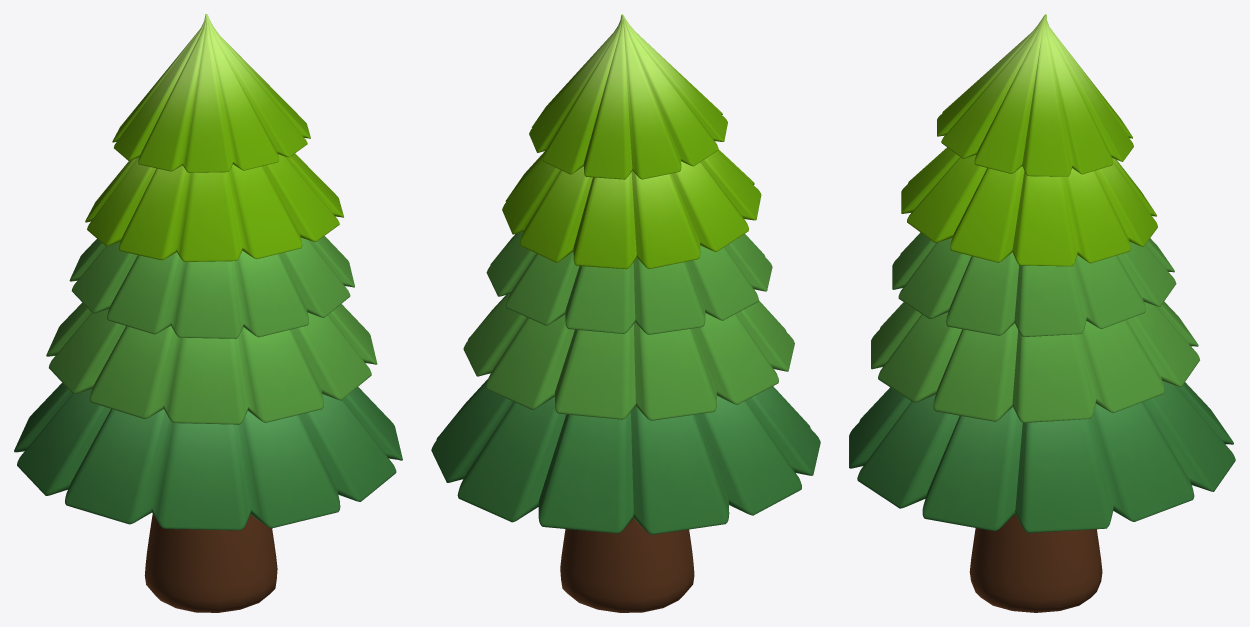
The model's file is Tree.fbx.
3 renders of one model, left to right at view 1: azimuth 30°, elevation 25°; view 2: azimuth 150°, elevation 25°; view 3: azimuth 270°, elevation 25°, orthographic.
Parts seen in each view (by area): view 1: Cone, Cone.001, Cone.002, Cone.003, Cone.004, Cube; view 2: Cone, Cone.001, Cone.003, Cone.004, Cone.002, Cube; view 3: Cone, Cone.001, Cone.003, Cone.002, Cone.004, Cube.
Part boxes in pixels (box(x1,y1,x2,y2)): Cone: box(14, 383, 402, 530); Cone.001: box(46, 302, 377, 424); Cone.002: box(69, 236, 354, 338); Cone.003: box(85, 153, 343, 261); Cone.004: box(112, 14, 310, 172); Cube: box(144, 514, 277, 612); Cone: box(431, 379, 820, 534); Cone.001: box(463, 294, 794, 420); Cone.003: box(502, 149, 761, 269); Cone.004: box(529, 14, 727, 179); Cone.002: box(486, 232, 772, 334); Cube: box(560, 518, 694, 612); Cone: box(849, 381, 1235, 532); Cone.001: box(871, 301, 1199, 422); Cone.003: box(901, 147, 1157, 266); Cone.002: box(892, 232, 1176, 336); Cone.004: box(937, 14, 1133, 176); Cube: box(969, 514, 1102, 612).
Bounding box in the file's own units: 366 × 604 × 364.
